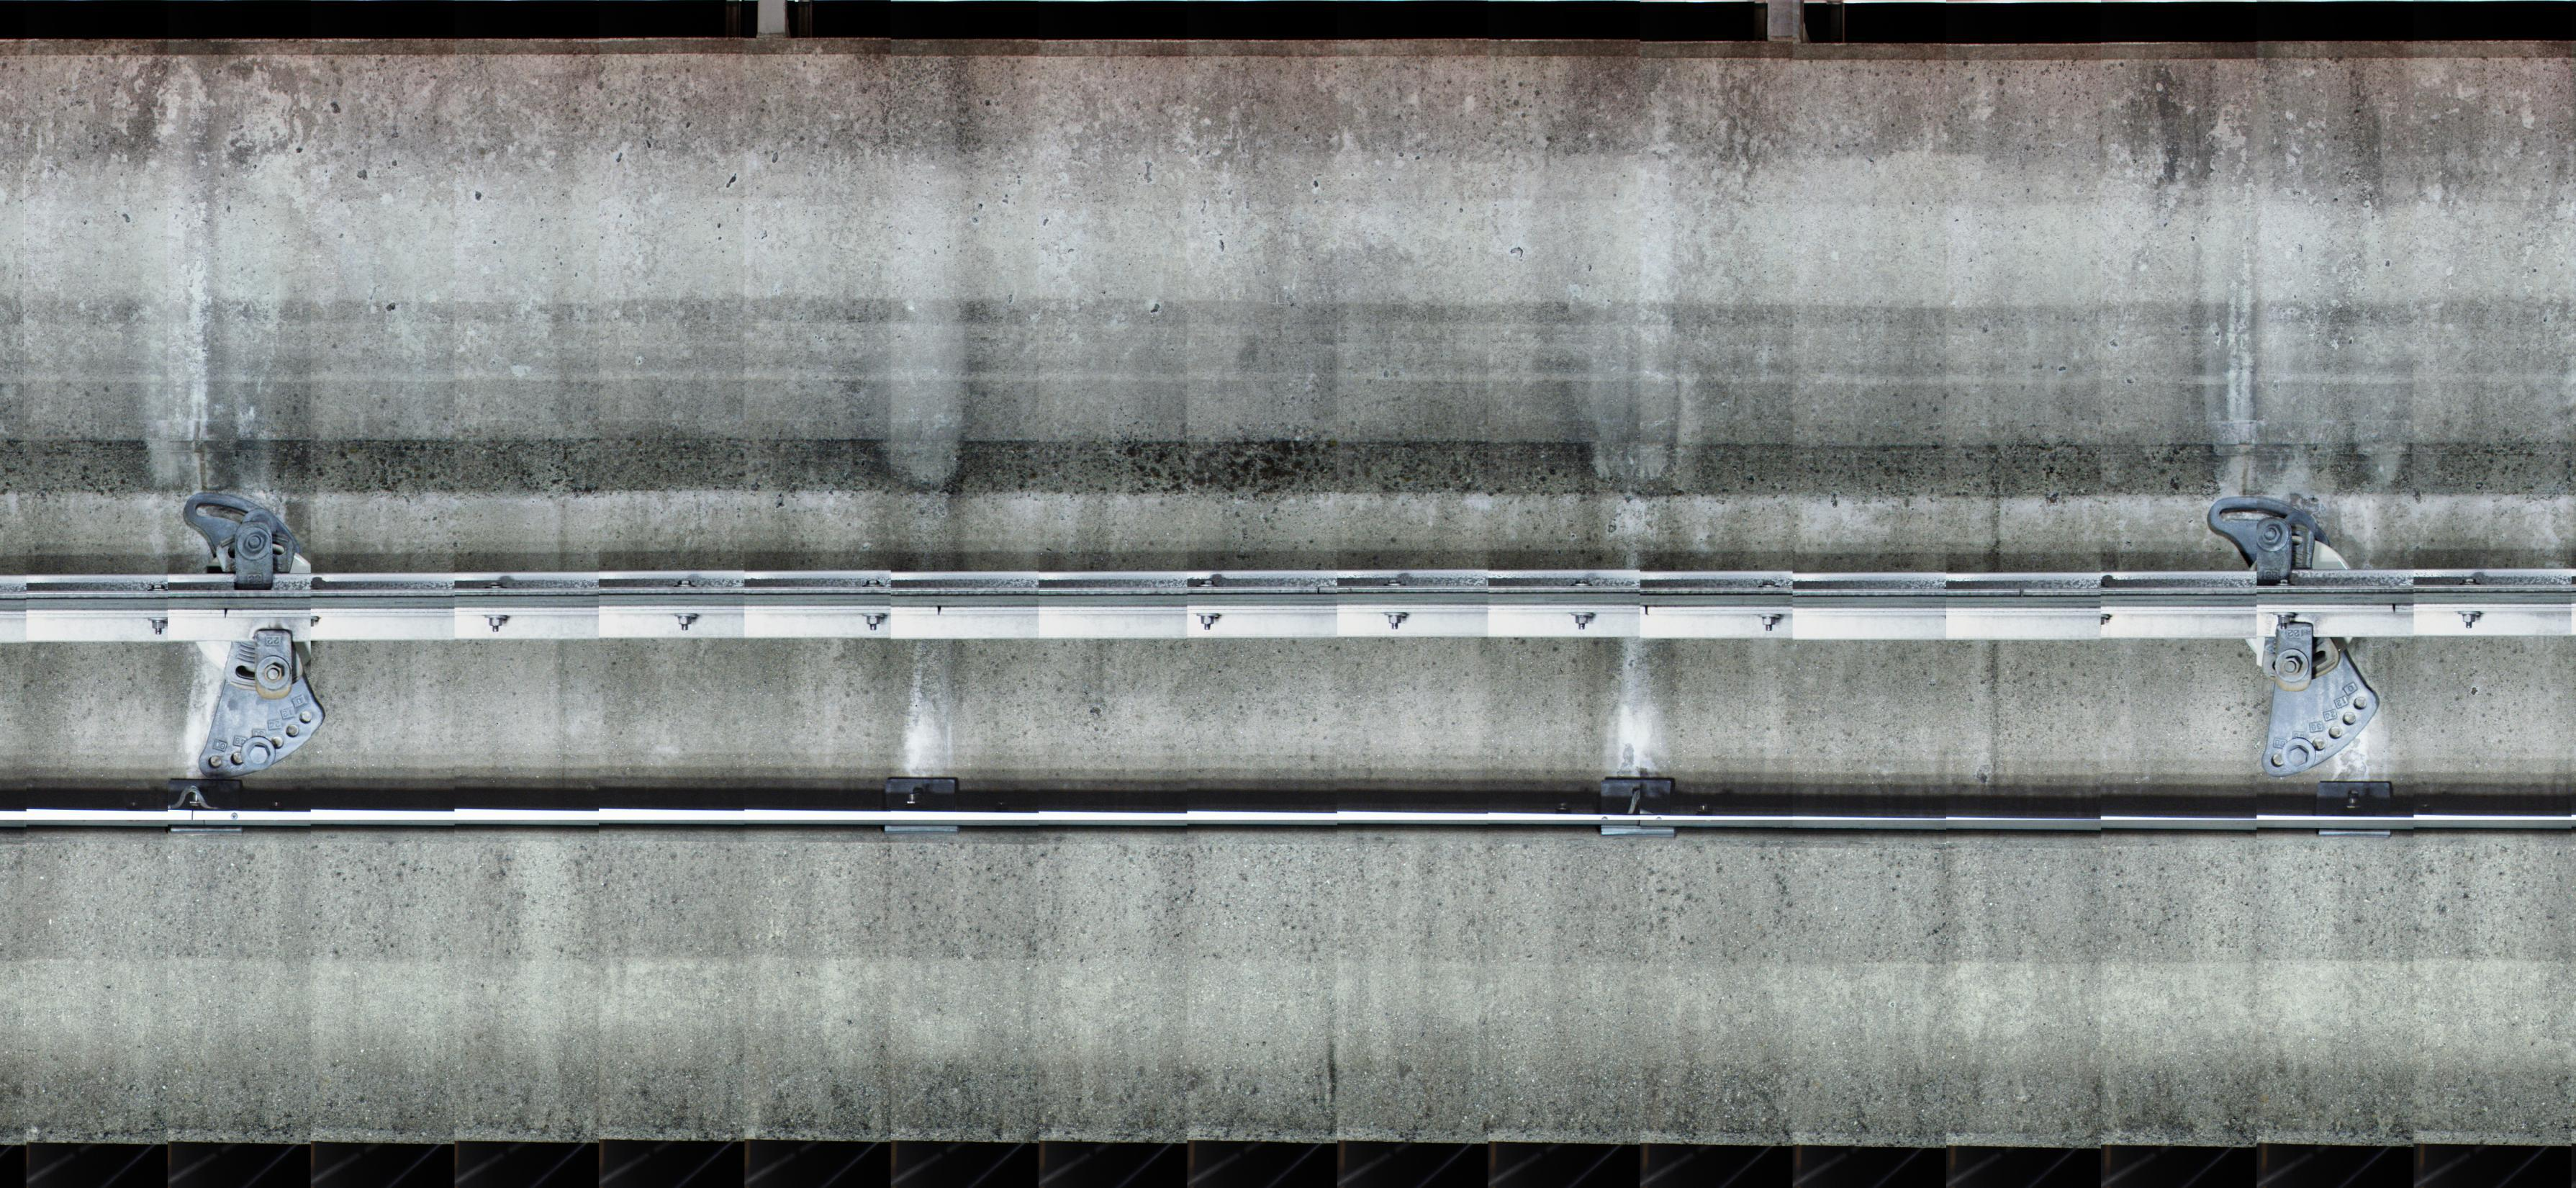concrete: (3, 39, 2556, 557), (5, 641, 2564, 1145)
